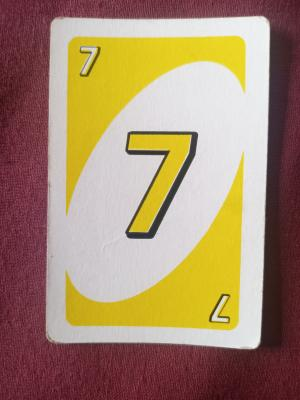num_7: (104, 120, 229, 274), (141, 281, 244, 332)
yellow: (62, 32, 126, 110)
